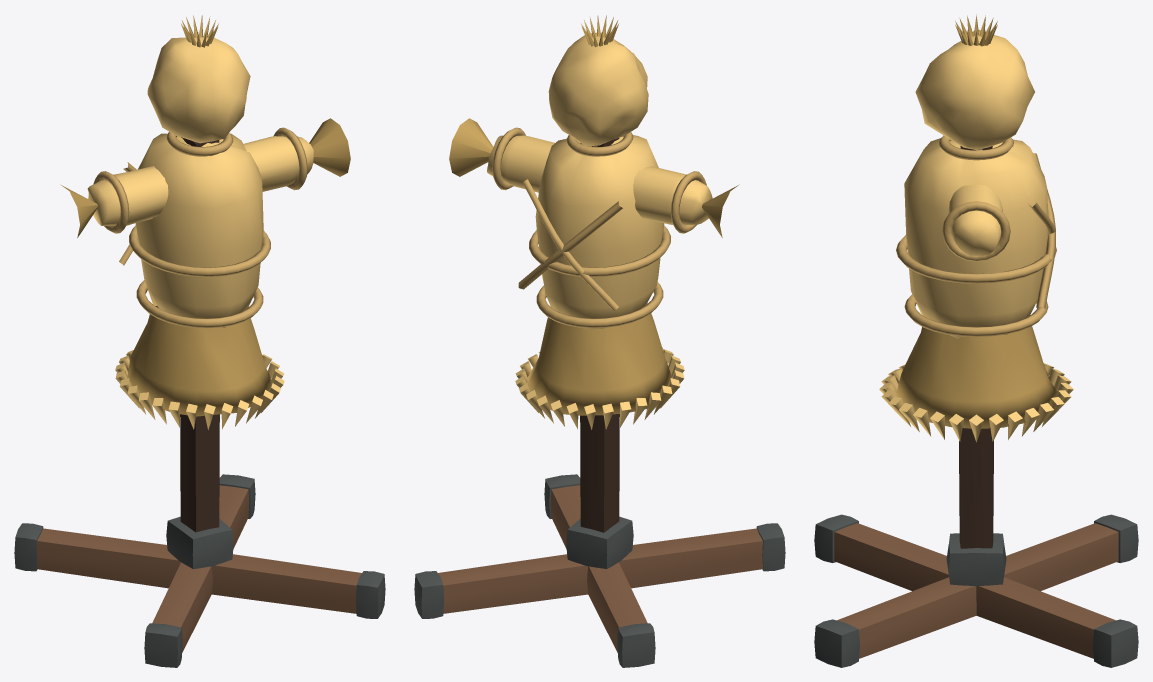
Rendered from detail_camp_dummy.glb.
3 views of the same model, side by side, from view 1: azimuth 30°, elevation 25°; view 2: azimuth 150°, elevation 25°; view 3: azimuth 270°, elevation 25° (orthographic). The views are drawn at different scales.
Visible parts, largest first — view 1: straw, wood, metal, cloth; view 2: straw, wood, cloth, metal; view 3: straw, wood, metal, cloth.
Part boxes in pixels (<box>): straw: <box>60,15,350,429</box>; wood: <box>37,137,361,652</box>; metal: <box>14,474,385,667</box>; cloth: <box>93,127,307,328</box>; straw: <box>449,15,739,429</box>; wood: <box>438,138,762,652</box>; cloth: <box>492,127,706,328</box>; metal: <box>414,474,785,667</box>; straw: <box>879,14,1073,442</box>; wood: <box>834,146,1118,658</box>; metal: <box>814,514,1138,667</box>; cloth: <box>896,135,1056,336</box>.
Bounding box in the file's own units: 0.8 × 1.6 × 0.8.
